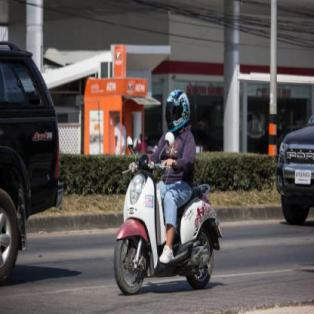Motocicleta: (112, 139, 220, 296)
